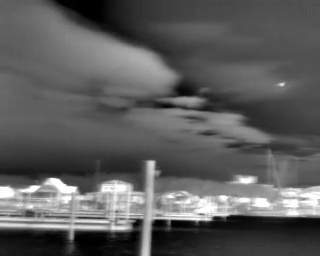BIRD: (273, 78, 288, 91)
